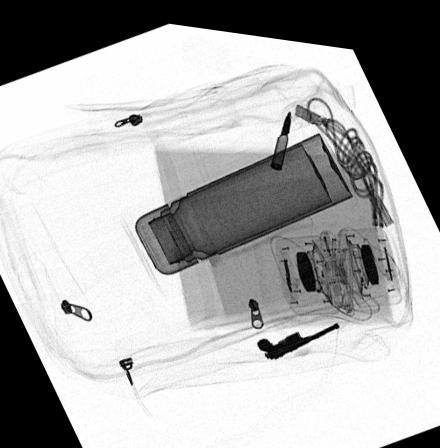Bullet: (268, 101, 290, 162)
Gun: (255, 311, 339, 350)
